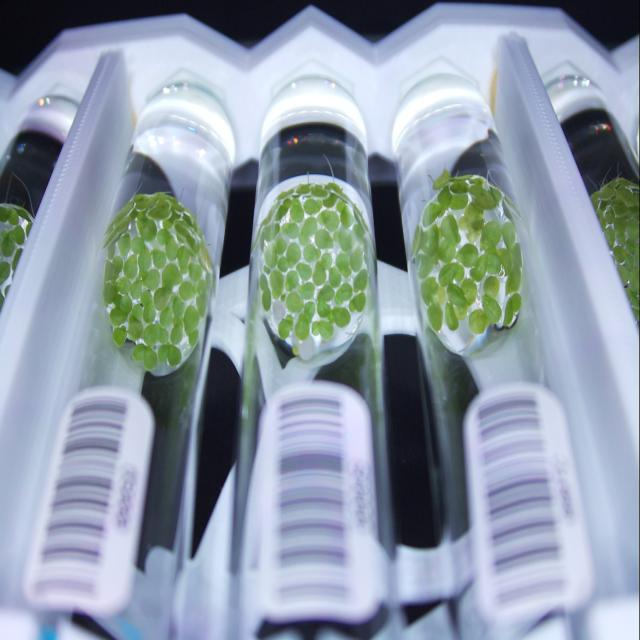Lemna-Gibba: (458, 202, 485, 242), (148, 193, 186, 220), (294, 302, 315, 340), (110, 295, 132, 327), (132, 344, 158, 370), (439, 262, 465, 287), (104, 220, 130, 245), (136, 213, 158, 242), (142, 324, 169, 347), (441, 213, 461, 244), (480, 220, 501, 249), (421, 223, 440, 255), (504, 292, 521, 327), (128, 304, 144, 341), (422, 202, 445, 227), (456, 243, 479, 267), (482, 295, 501, 324), (161, 264, 182, 290), (460, 277, 478, 307), (299, 217, 318, 245), (318, 208, 340, 232), (436, 238, 456, 264), (140, 290, 155, 324), (470, 254, 488, 282), (469, 309, 489, 334), (196, 279, 209, 317), (336, 200, 354, 227), (104, 255, 122, 282), (148, 198, 170, 220), (496, 247, 512, 277), (334, 228, 354, 252), (131, 193, 156, 212), (420, 277, 438, 303), (311, 320, 334, 340), (416, 254, 434, 279), (474, 192, 499, 210), (269, 269, 284, 299), (411, 223, 424, 257), (138, 245, 151, 278), (104, 282, 121, 307), (506, 265, 521, 293), (448, 284, 468, 305), (432, 168, 451, 190), (334, 282, 352, 305), (184, 305, 199, 332), (260, 274, 271, 310), (286, 292, 304, 314), (445, 302, 459, 330), (154, 287, 171, 310), (501, 222, 516, 248), (486, 248, 501, 274), (315, 228, 334, 248), (264, 242, 278, 269), (350, 245, 364, 272), (142, 269, 160, 290), (286, 242, 301, 267), (428, 304, 442, 330), (178, 245, 191, 273), (262, 222, 280, 242), (332, 307, 350, 327), (115, 200, 135, 218), (181, 208, 199, 228), (469, 177, 486, 198), (166, 235, 179, 262), (124, 254, 138, 279), (336, 254, 351, 277), (302, 243, 320, 262), (349, 292, 366, 312), (179, 280, 196, 300), (290, 198, 304, 222), (278, 315, 292, 339), (304, 197, 322, 215), (450, 193, 469, 210), (312, 262, 326, 285), (354, 269, 368, 292), (171, 295, 185, 318), (484, 275, 500, 295), (174, 220, 190, 240), (151, 248, 166, 269), (438, 187, 452, 209), (285, 270, 299, 292), (112, 325, 126, 347), (188, 262, 202, 284), (318, 284, 335, 302), (296, 262, 312, 281), (449, 178, 469, 193), (432, 284, 446, 305), (281, 222, 299, 238), (299, 282, 315, 300), (168, 345, 181, 367), (186, 235, 201, 254), (511, 242, 522, 267), (115, 277, 131, 294), (255, 223, 265, 250), (131, 235, 145, 254), (170, 322, 182, 344), (160, 305, 172, 327), (130, 277, 142, 299), (118, 233, 130, 255), (156, 228, 171, 245), (329, 267, 341, 287), (311, 183, 328, 197), (352, 223, 366, 240), (276, 202, 289, 220), (275, 237, 288, 255), (322, 193, 338, 207), (320, 252, 332, 270), (454, 305, 468, 320), (275, 188, 294, 199), (318, 300, 330, 317), (158, 344, 170, 361), (296, 183, 312, 195), (109, 213, 126, 224), (124, 210, 138, 223), (190, 329, 199, 347), (326, 183, 341, 193), (490, 183, 502, 195), (278, 257, 288, 270), (170, 210, 180, 223), (108, 243, 115, 260), (452, 176, 471, 182), (172, 315, 182, 325), (162, 218, 172, 228), (430, 254, 439, 265), (328, 310, 335, 322), (284, 197, 292, 207), (264, 264, 271, 274), (276, 294, 286, 300)
